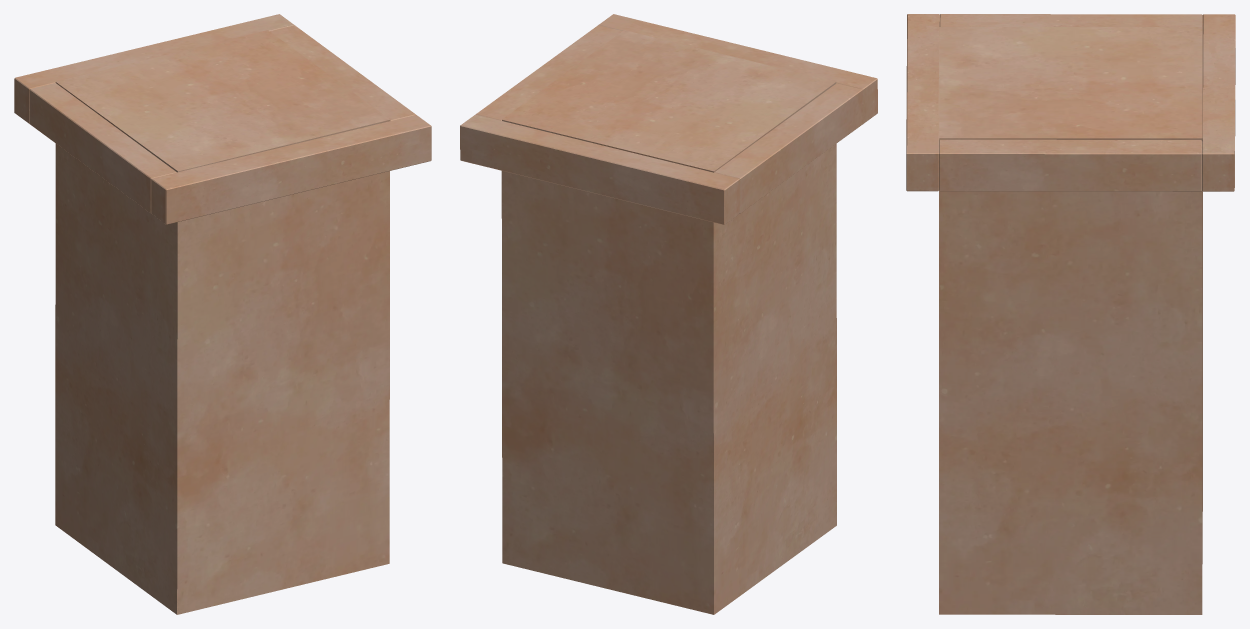
3 renders of one model, left to right at view 1: azimuth 30°, elevation 25°; view 2: azimuth 150°, elevation 25°; view 3: azimuth 270°, elevation 25°, orthographic. The views are drawn at different scales.
Parts seen in each view (by area): view 1: SM_BB_T4_Foundation_Med_03_LOD0; view 2: SM_BB_T4_Foundation_Med_03_LOD0; view 3: SM_BB_T4_Foundation_Med_03_LOD0.
Part boxes in pixels (x1=…): SM_BB_T4_Foundation_Med_03_LOD0: x1=14, y1=14, x2=431, y2=614; SM_BB_T4_Foundation_Med_03_LOD0: x1=460, y1=14, x2=877, y2=614; SM_BB_T4_Foundation_Med_03_LOD0: x1=906, y1=14, x2=1235, y2=614.
Size of the model in its own units: 1.88 by 3 by 1.88.
Materials: 1 (1 with a texture image).
